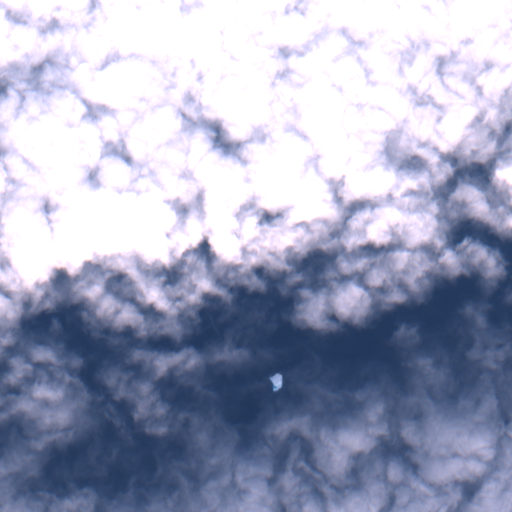Iceberg: (269, 373, 282, 391)
